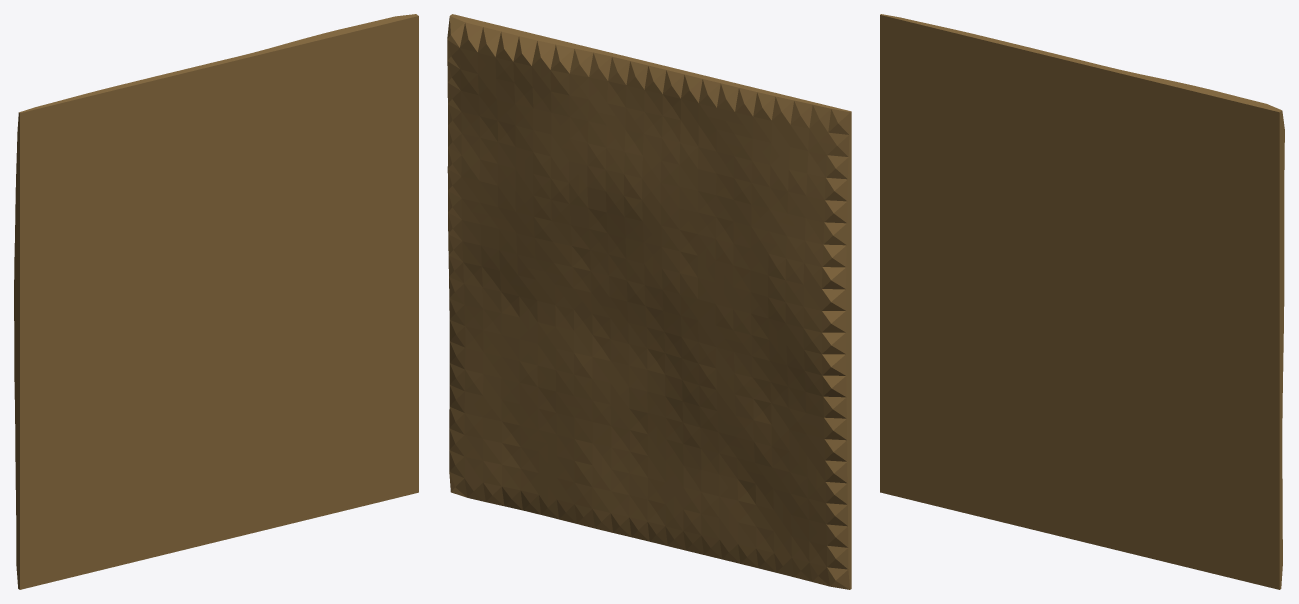
The model's file is terrain.glb.
3 renders of one model, left to right at view 1: azimuth 30°, elevation 25°; view 2: azimuth 150°, elevation 25°; view 3: azimuth 330°, elevation 25°, orthographic.
Parts seen in each view (by area): view 1: Mesh_Mesh_head_geo.001_lambert2SG.001; view 2: Mesh_Mesh_head_geo.001_lambert2SG.001; view 3: Mesh_Mesh_head_geo.001_lambert2SG.001.
Part boxes in pixels (x1,y1,x2,y2): Mesh_Mesh_head_geo.001_lambert2SG.001: (14,14,418,589); Mesh_Mesh_head_geo.001_lambert2SG.001: (447,14,851,589); Mesh_Mesh_head_geo.001_lambert2SG.001: (880,14,1284,589).
Size of the model in its own units: 42.31 by 48.31 by 2.24.
